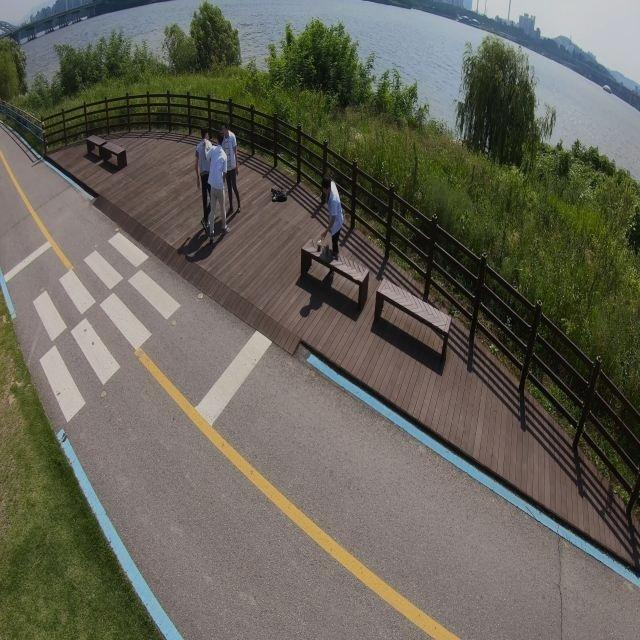fight: (192, 123, 240, 238)
non-fight: (317, 176, 345, 263)
